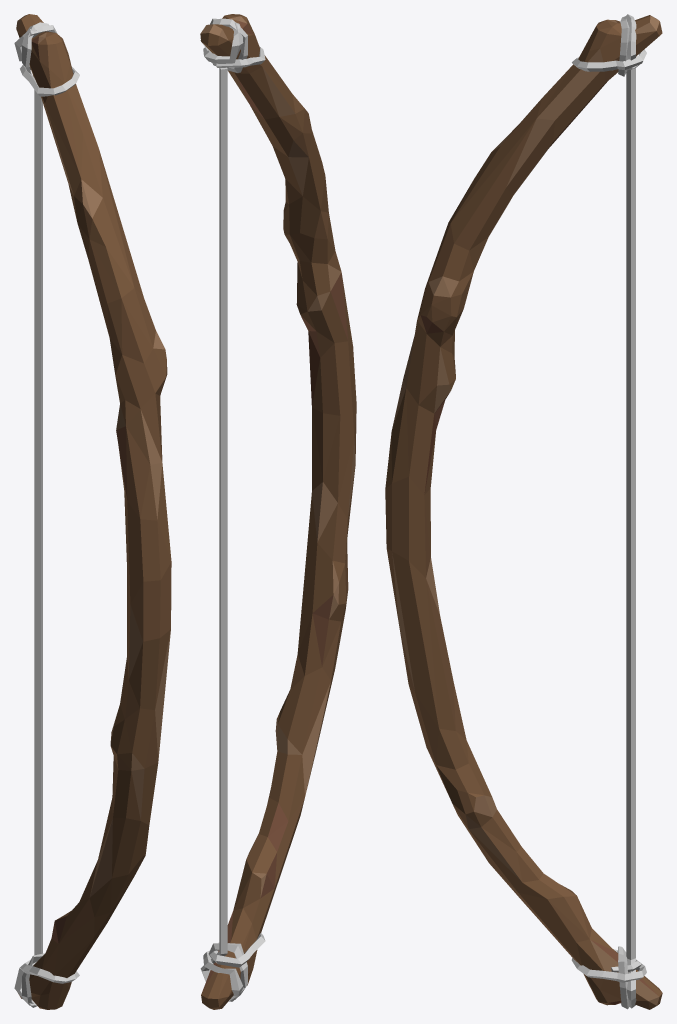
File: mesh_bow.fbx
3 renders of one model, left to right at view 1: azimuth 30°, elevation 25°; view 2: azimuth 150°, elevation 25°; view 3: azimuth 270°, elevation 25°, orthographic.
Parts seen in each view (by area): view 1: mesh_bow; view 2: mesh_bow; view 3: mesh_bow.
Part boxes in pixels (x1,y1,x2,y2): mesh_bow: [14, 14, 171, 1009]; mesh_bow: [200, 14, 356, 1009]; mesh_bow: [385, 14, 662, 1009].
Bounding box in the file's own units: 0.0857 × 1.56 × 0.395.
